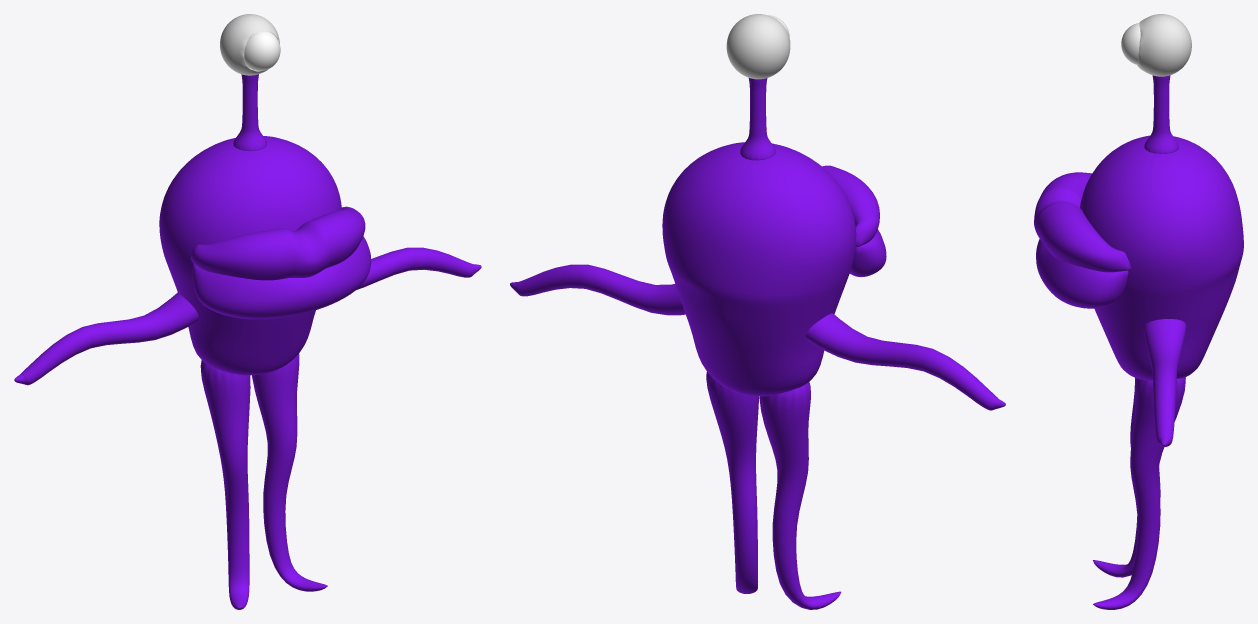
The model's file is Glossy.fbx.
3 views of the same model, side by side, from view 1: azimuth 30°, elevation 25°; view 2: azimuth 150°, elevation 25°; view 3: azimuth 270°, elevation 25° (orthographic). The views are drawn at different scales.
Visible parts, largest first — view 1: Cylinder004, Cylinder008, Cylinder007, Cylinder006, Cylinder005, Sphere002, Cylinder001, Sphere004; view 2: Cylinder004, Cylinder006, Cylinder005, Sphere002, Cylinder008, Cylinder001, Cylinder007; view 3: Cylinder004, Cylinder008, Cylinder005, Cylinder007, Sphere002, Cylinder001, Sphere004.
Boxes of the visible parts, bbox=[...] form: Cylinder004: bbox=[159, 136, 341, 609]; Cylinder008: bbox=[191, 206, 365, 280]; Cylinder007: bbox=[192, 236, 371, 319]; Cylinder006: bbox=[14, 292, 198, 385]; Cylinder005: bbox=[356, 247, 481, 289]; Sphere002: bbox=[220, 14, 279, 75]; Cylinder001: bbox=[233, 74, 266, 151]; Sphere004: bbox=[244, 31, 280, 70]; Cylinder004: bbox=[662, 142, 856, 609]; Cylinder006: bbox=[806, 313, 1005, 410]; Cylinder005: bbox=[510, 264, 685, 315]; Sphere002: bbox=[726, 14, 790, 79]; Cylinder008: bbox=[822, 165, 879, 246]; Cylinder001: bbox=[740, 78, 775, 160]; Cylinder007: bbox=[850, 229, 886, 276]; Cylinder004: bbox=[1080, 135, 1243, 609]; Cylinder008: bbox=[1034, 172, 1131, 272]; Cylinder005: bbox=[1143, 319, 1186, 446]; Cylinder007: bbox=[1036, 239, 1128, 308]; Sphere002: bbox=[1137, 14, 1191, 76]; Cylinder001: bbox=[1144, 75, 1178, 153]; Sphere004: bbox=[1121, 23, 1140, 64].
Size of the model in its own units: 190 by 220 by 72.69.
